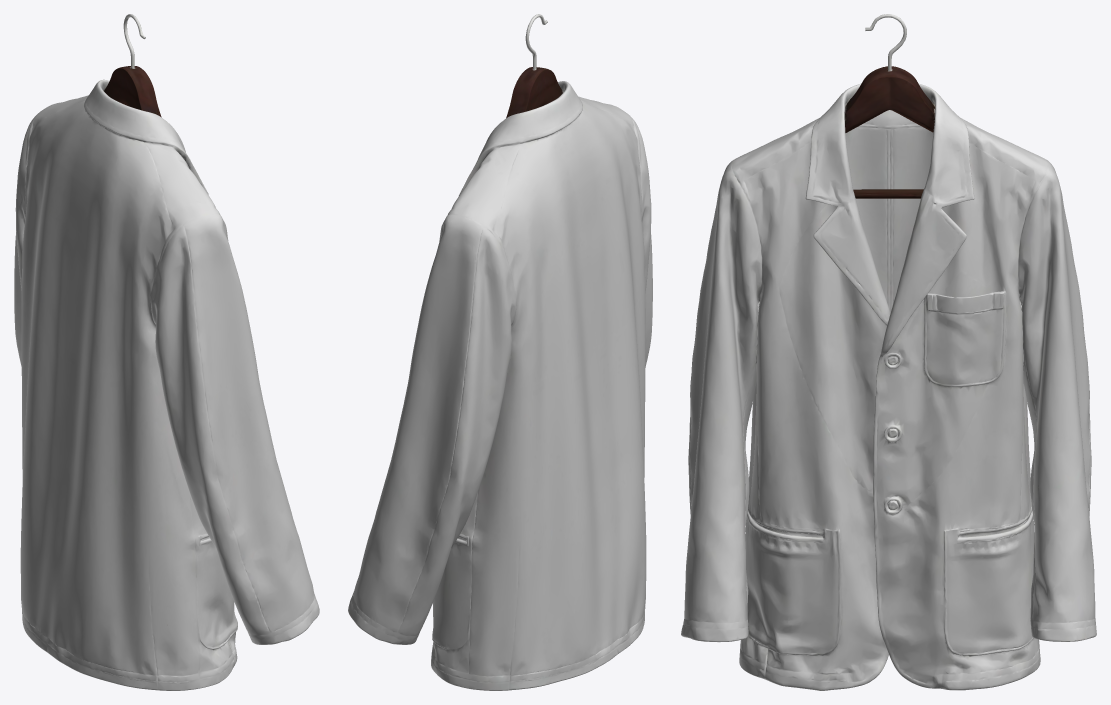
The model's file is physician-coat-lite.glb.
3 views of the same model, side by side, from view 1: azimuth 30°, elevation 25°; view 2: azimuth 150°, elevation 25°; view 3: azimuth 270°, elevation 25° (orthographic). The views are drawn at different scales.
Visible parts, largest first — view 1: tripo_node_46f86cf6-57a0-48bf-8879-a32d0e397305; view 2: tripo_node_46f86cf6-57a0-48bf-8879-a32d0e397305; view 3: tripo_node_46f86cf6-57a0-48bf-8879-a32d0e397305.
Boxes of the visible parts, bbox=[...] form: tripo_node_46f86cf6-57a0-48bf-8879-a32d0e397305: bbox=[14, 14, 319, 690]; tripo_node_46f86cf6-57a0-48bf-8879-a32d0e397305: bbox=[348, 14, 652, 690]; tripo_node_46f86cf6-57a0-48bf-8879-a32d0e397305: bbox=[681, 14, 1096, 690].
Size of the model in its own units: 0.3069 by 0.9794 by 0.5703.
Materials: 1 (1 with a texture image).
